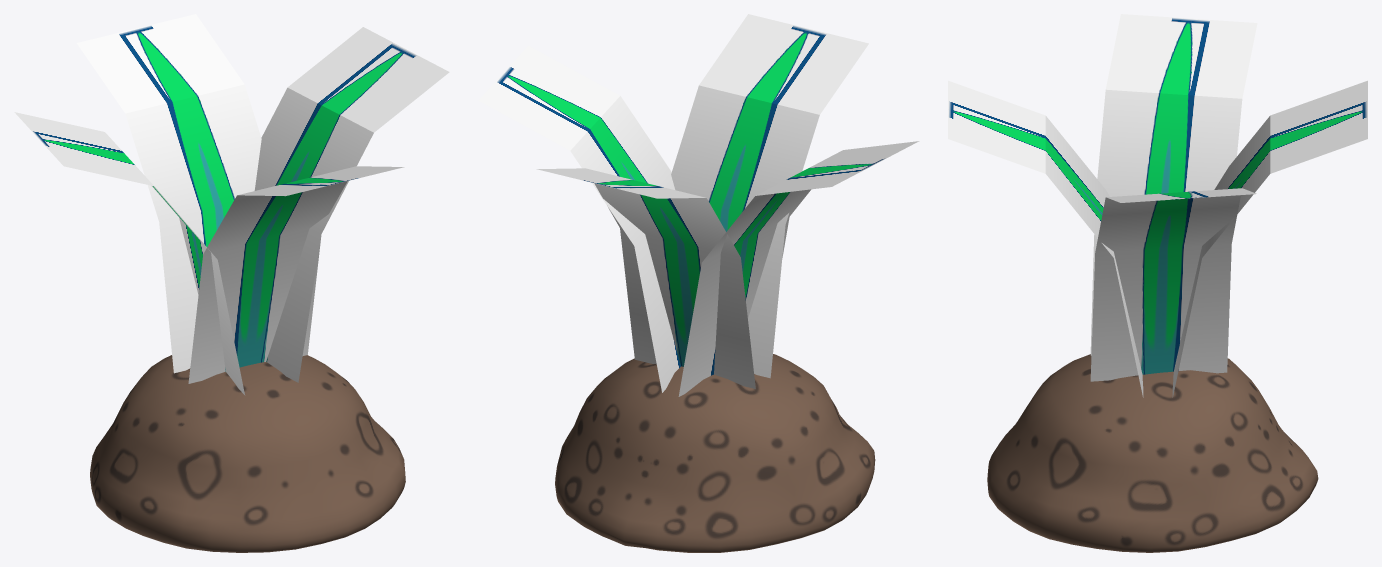
The model's file is dirt1_grassblades.fbx.
3 renders of one model, left to right at view 1: azimuth 30°, elevation 25°; view 2: azimuth 150°, elevation 25°; view 3: azimuth 270°, elevation 25°, orthographic.
Visible parts, largest first — view 1: clumptwo_low, grassblade, grassblade1; view 2: clumptwo_low, grassblade, grassblade1; view 3: grassblade1, clumptwo_low, grassblade.
Part boxes in pixels (left/top/right/bottom): clumptwo_low: left=90, top=355, right=405, bottom=552; grassblade: left=77, top=14, right=404, bottom=383; grassblade1: left=14, top=27, right=449, bottom=395; clumptwo_low: left=555, top=354, right=875, bottom=552; grassblade: left=536, top=14, right=868, bottom=388; grassblade1: left=478, top=45, right=919, bottom=396; grassblade1: left=1090, top=14, right=1257, bottom=381; clumptwo_low: left=987, top=354, right=1318, bottom=552; grassblade: left=948, top=80, right=1367, bottom=397.
Bounding box in the file's own units: 1.44 × 1.35 × 1.35.
Materials: 2 (2 with a texture image).
